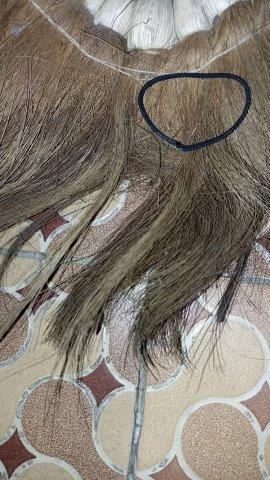karet: (138, 73, 251, 152)
